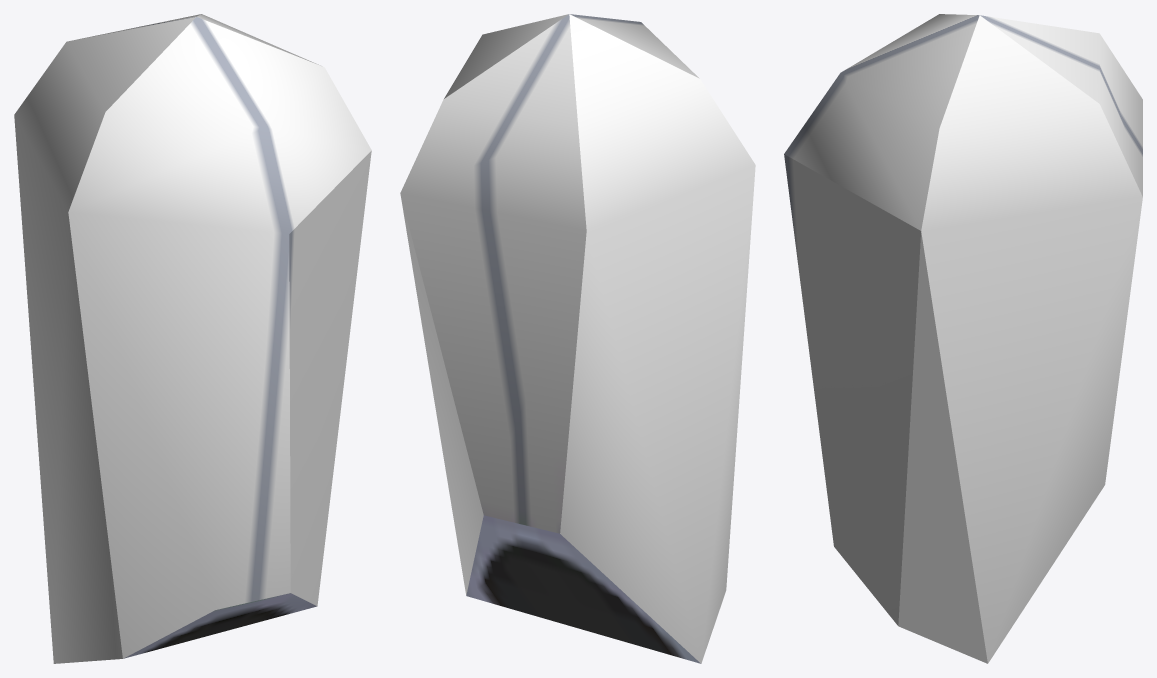
Rendered from buzzlightyRightThigh.obj.
3 renders of one model, left to right at view 1: azimuth 30°, elevation 25°; view 2: azimuth 150°, elevation 25°; view 3: azimuth 270°, elevation 25°, orthographic.
Parts seen in each view (by area): view 1: buzzlightyRightThigh_buzzlighty.024; view 2: buzzlightyRightThigh_buzzlighty.024; view 3: buzzlightyRightThigh_buzzlighty.024.
Part boxes in pixels (box(x1,y1,x2,y2)): buzzlightyRightThigh_buzzlighty.024: box(14, 14, 371, 663); buzzlightyRightThigh_buzzlighty.024: box(400, 14, 755, 663); buzzlightyRightThigh_buzzlighty.024: box(784, 14, 1142, 663).
Bounding box in the file's own units: 0.091 × 0.1768 × 0.0942.
1 material, 1 textured.
